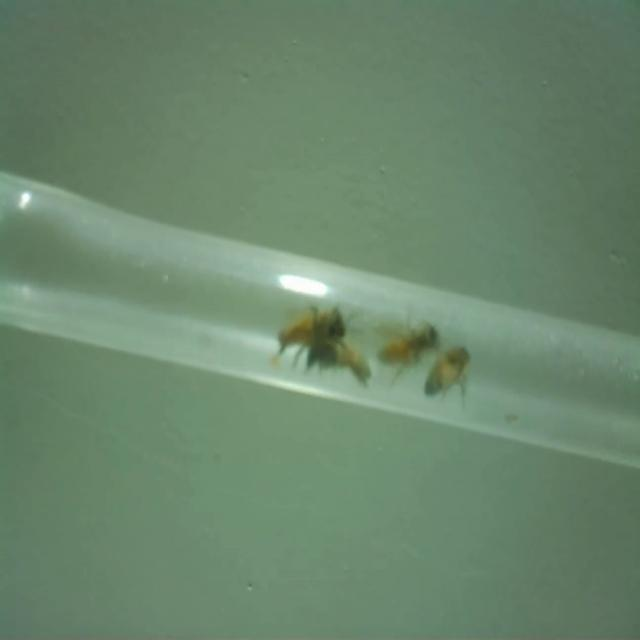Honeybee-Detection: (273, 304, 348, 365), (306, 336, 371, 386), (385, 322, 439, 374)
